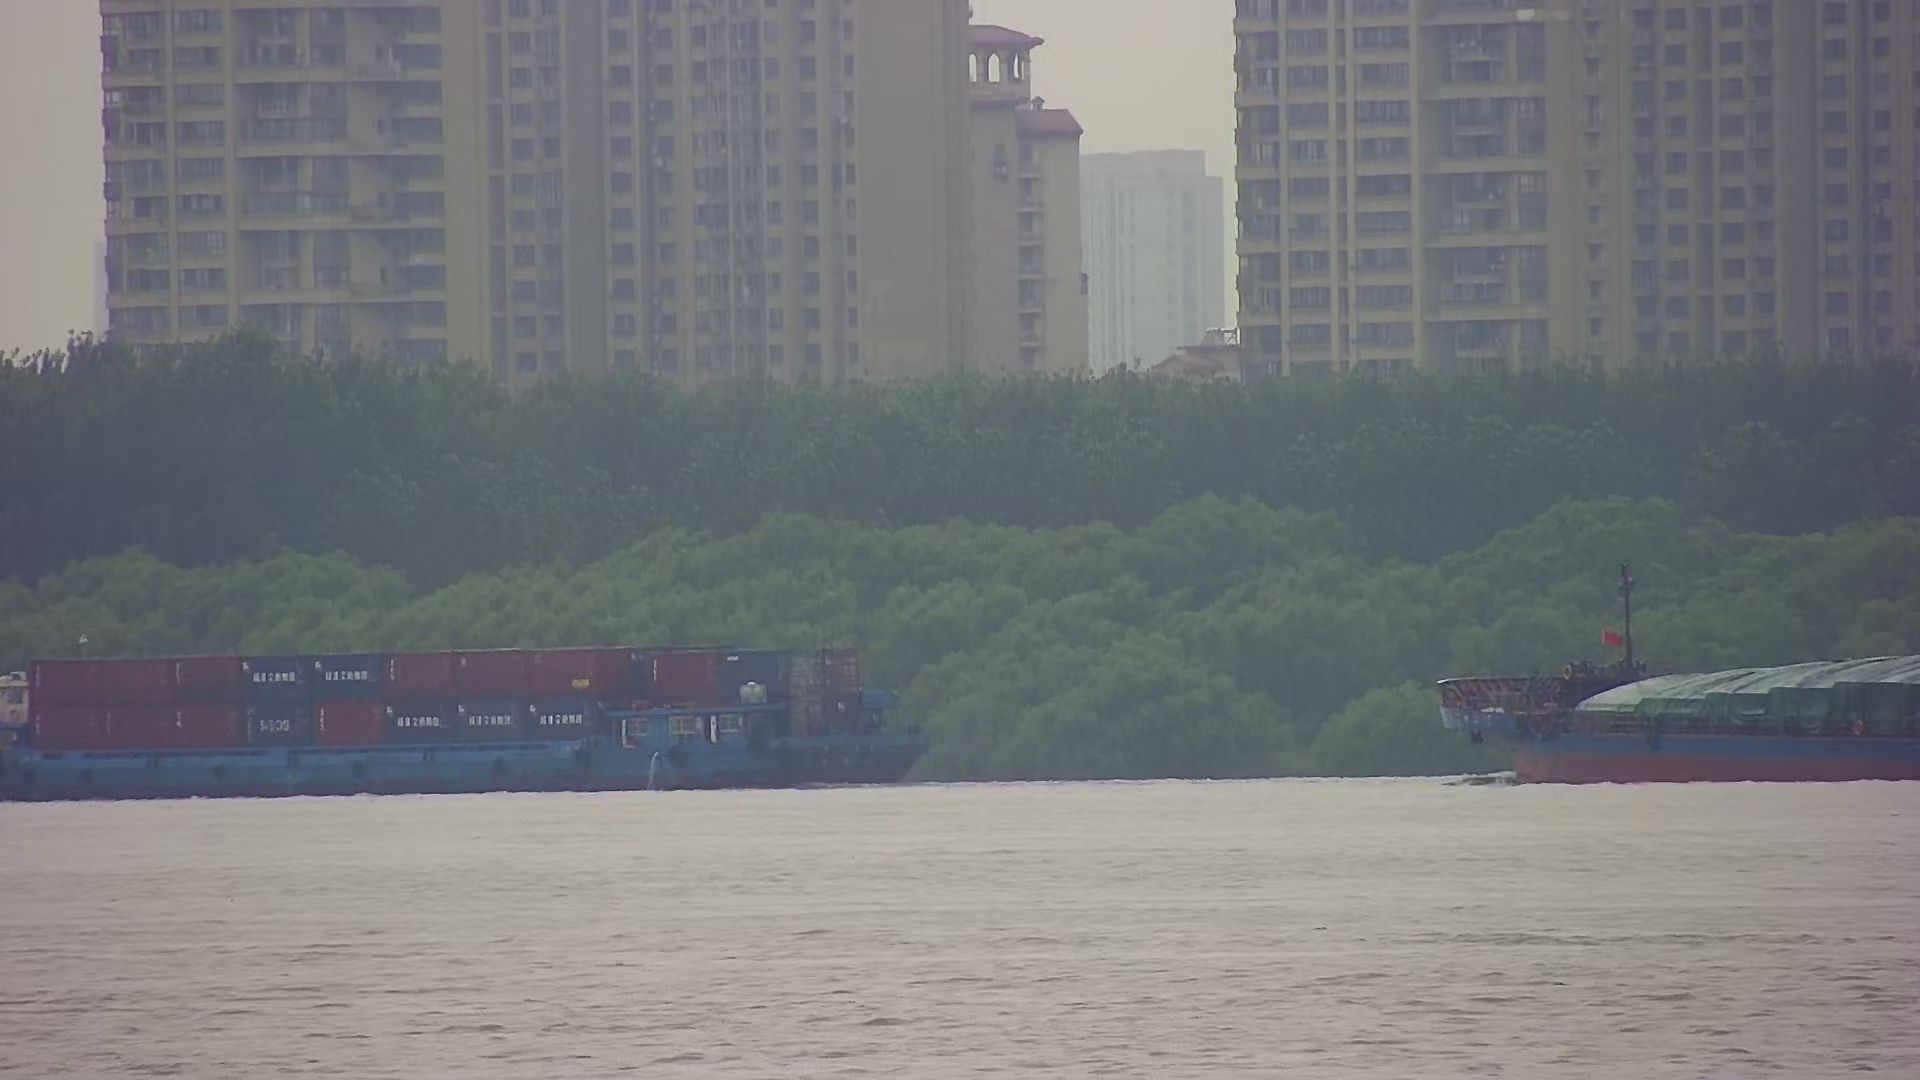ship: (1, 634, 923, 800), (1429, 570, 1920, 781)
